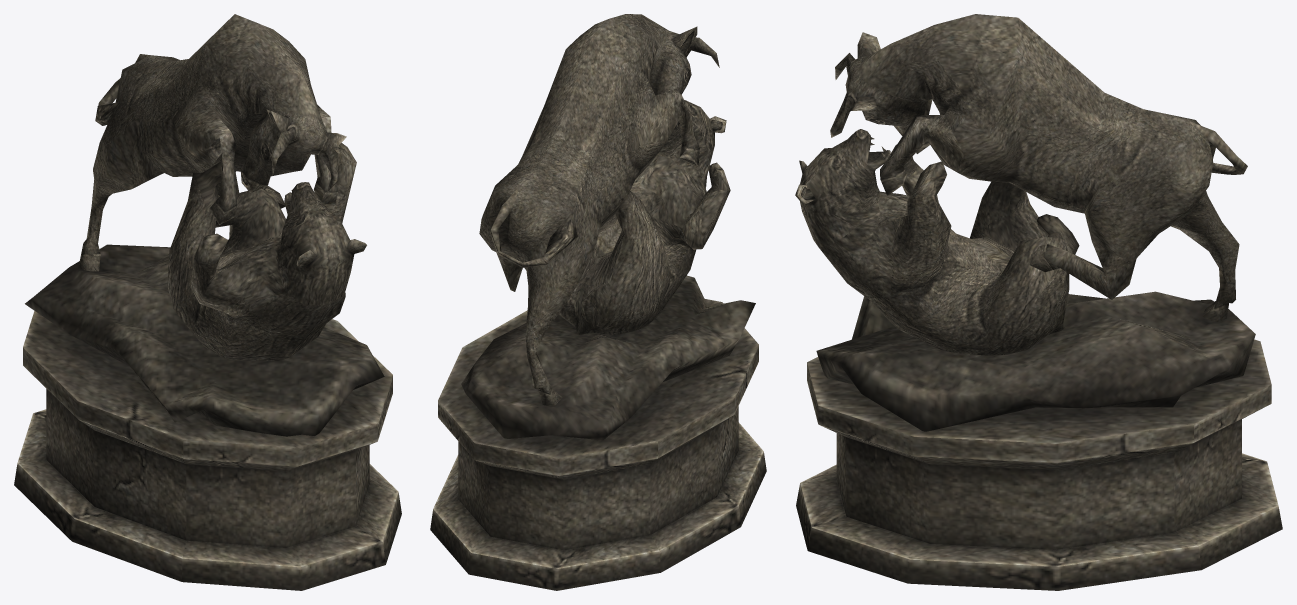
Rendered from bearBullStatue.dae.
3 renders of one model, left to right at view 1: azimuth 30°, elevation 25°; view 2: azimuth 150°, elevation 25°; view 3: azimuth 270°, elevation 25°, orthographic. The views are drawn at different scales.
Parts seen in each view (by area): view 1: BearBull; view 2: BearBull; view 3: BearBull.
Part boxes in pixels (left/top/right/bottom): BearBull: left=14, top=14, right=401, bottom=590; BearBull: left=430, top=14, right=766, bottom=590; BearBull: left=795, top=14, right=1282, bottom=590.
Bounding box in the file's own units: 2.26 × 3.68 × 3.17.
Materials: 1 (1 with a texture image).
